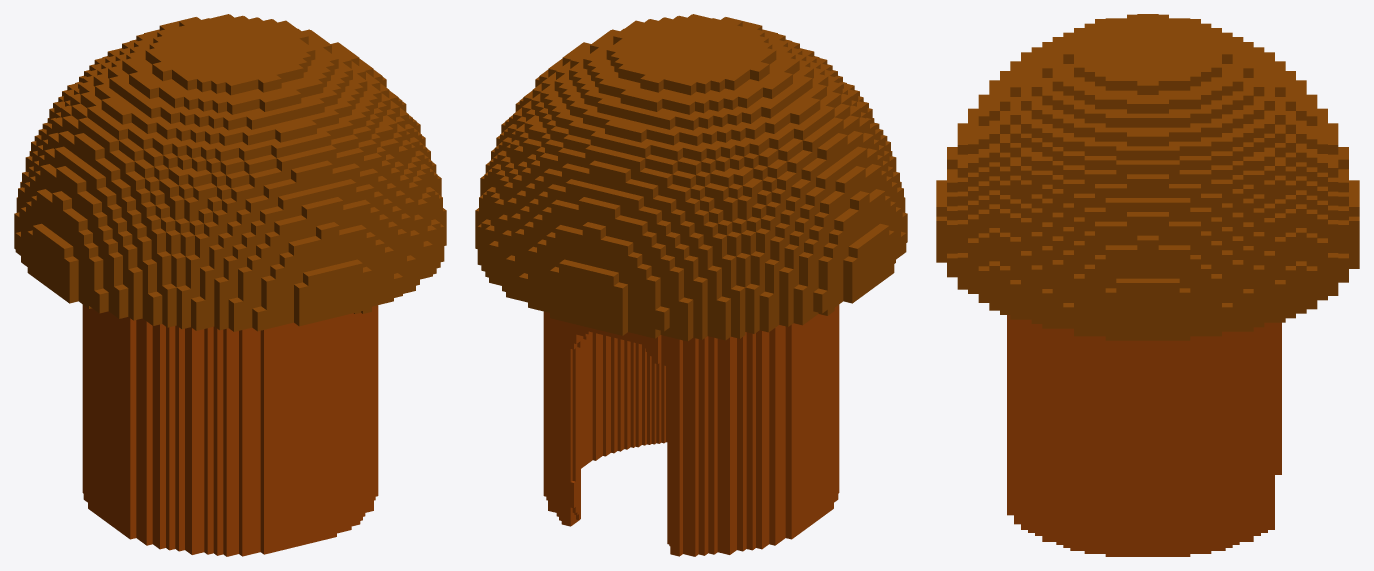
Rendered from kemah1.fbx.
The picture shows the model from 3 angles, left to right: view 1: azimuth 30°, elevation 25°; view 2: azimuth 150°, elevation 25°; view 3: azimuth 270°, elevation 25°; orthographic projection.
Parts seen in each view (by area): view 1: Untitled; view 2: Untitled; view 3: Untitled.
Part boxes in pixels (x1=…): Untitled: x1=14, y1=14, x2=446, y2=556; Untitled: x1=475, y1=14, x2=907, y2=556; Untitled: x1=936, y1=14, x2=1359, y2=556.
Size of the model in its own units: 1200 by 1400 by 1200.
Materials: 1 (1 with a texture image).
